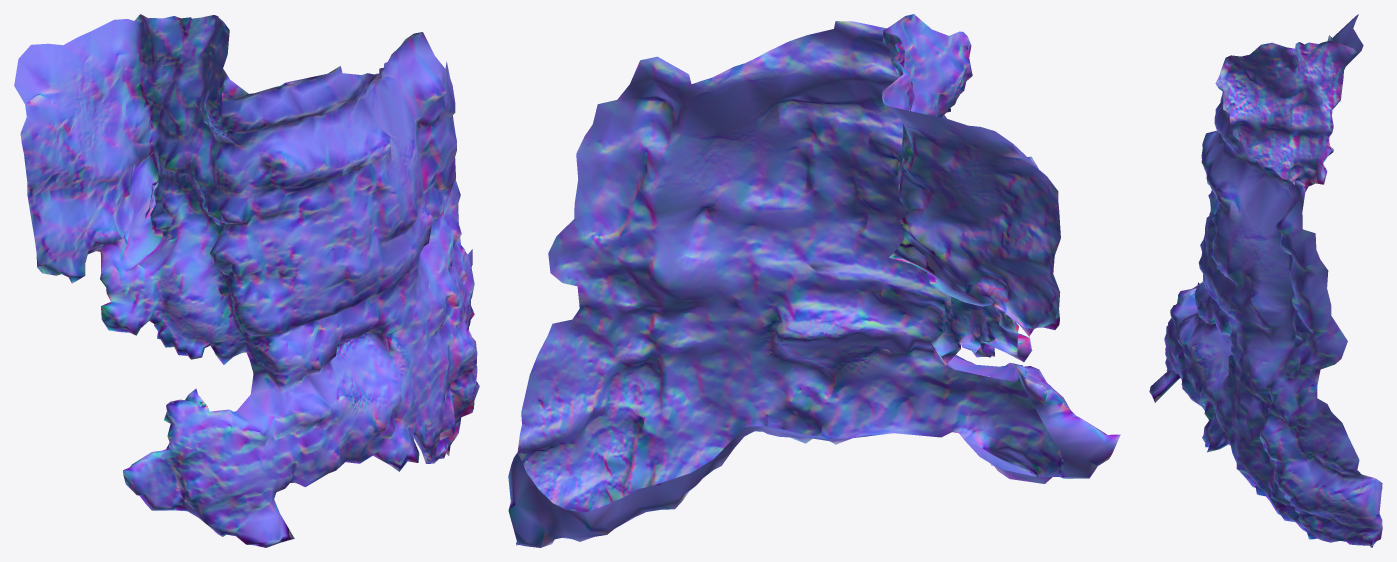
The model's file is RockFormation00.fbx.
The picture shows the model from 3 angles, left to right: view 1: azimuth 30°, elevation 25°; view 2: azimuth 150°, elevation 25°; view 3: azimuth 270°, elevation 25°; orthographic projection. The views are drawn at different scales.
Visible parts, largest first — view 1: RockFormation00_LOD0; view 2: RockFormation00_LOD0; view 3: RockFormation00_LOD0.
Part boxes in pixels (<box>): RockFormation00_LOD0: <box>14,14,479,547</box>; RockFormation00_LOD0: <box>508,14,1120,547</box>; RockFormation00_LOD0: <box>1149,14,1382,547</box>.
Size of the model in its own units: 3460 by 3606 by 1898.
